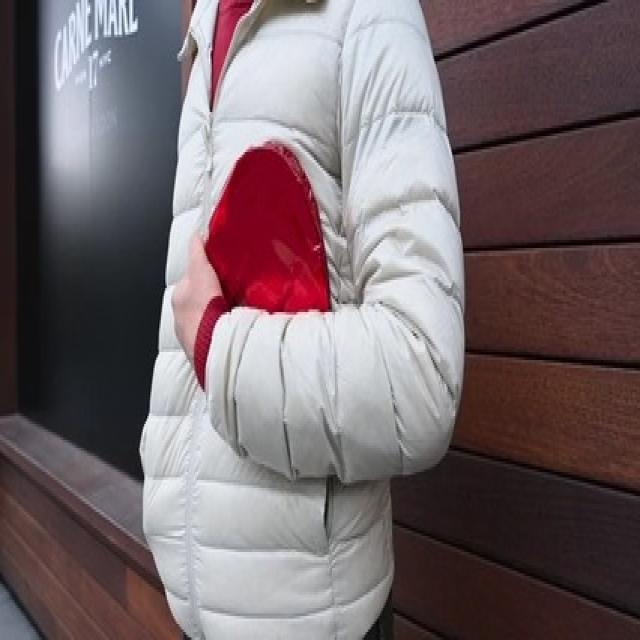Jacket_Wearer: (162, 0, 471, 640)
Person: (146, 0, 472, 640)
